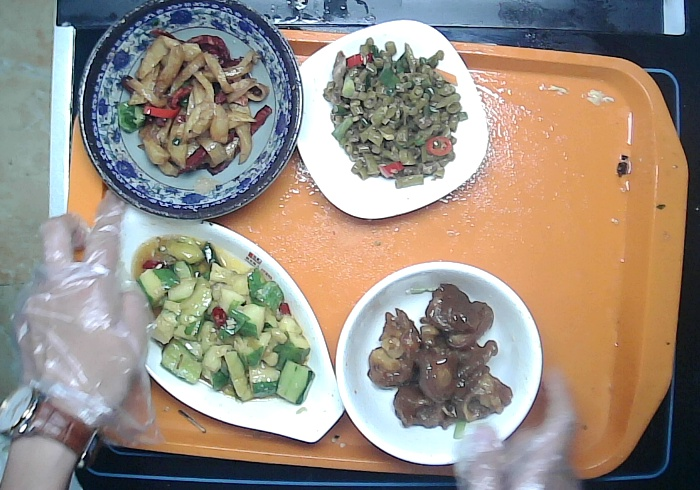ZNLD-Qing_Hua_Wan: (68, 1, 302, 219)
ZNLD-Si_Fang_Wan: (297, 21, 490, 227)
ZNLD-Tang_Wan: (344, 264, 549, 471)
ZNLD-Yu_Pan: (109, 208, 344, 449)
